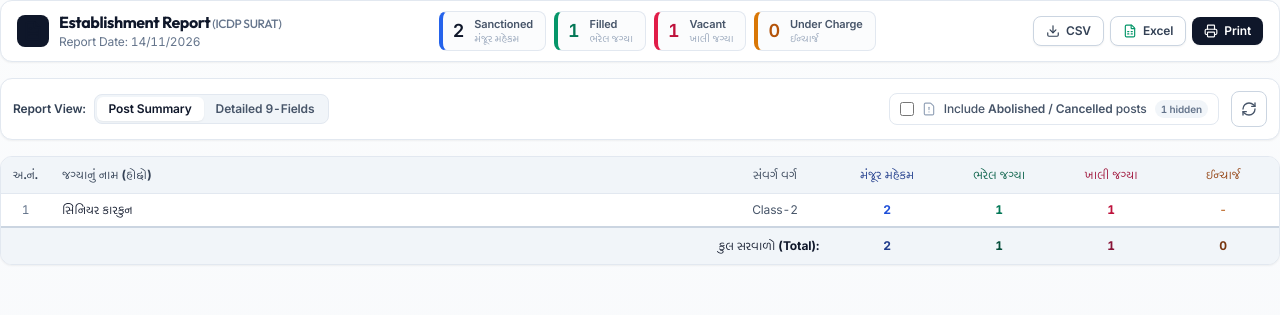
Test: OfficeReportView › keeps abolished/cancelled posts out of the post summary until the toggle is on
Expected: the text "અ.બે./રદ" is not shown
Expected: the text "આંકડા અધિકારી" is not shown
Step 1. Click the checkbox → [907, 109], box left=900, top=102, right=914, bottom=116
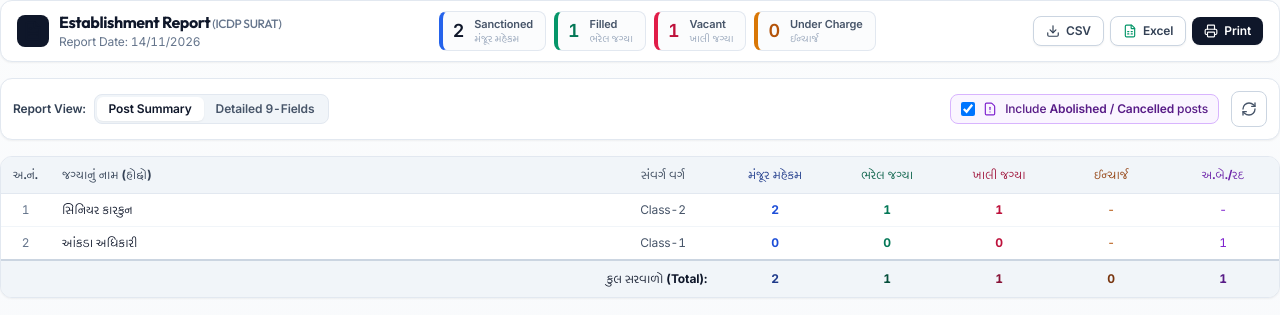
Expected: the column heading "અ.બે./રદ" is shown, left=1167, top=157, right=1279, bottom=194
